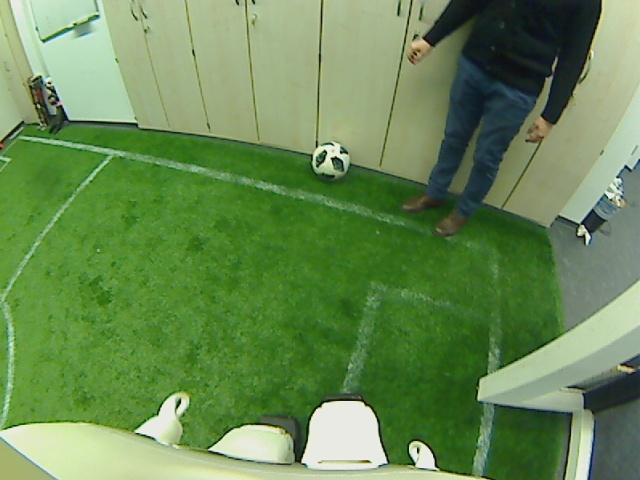ball: (308, 139, 352, 181)
